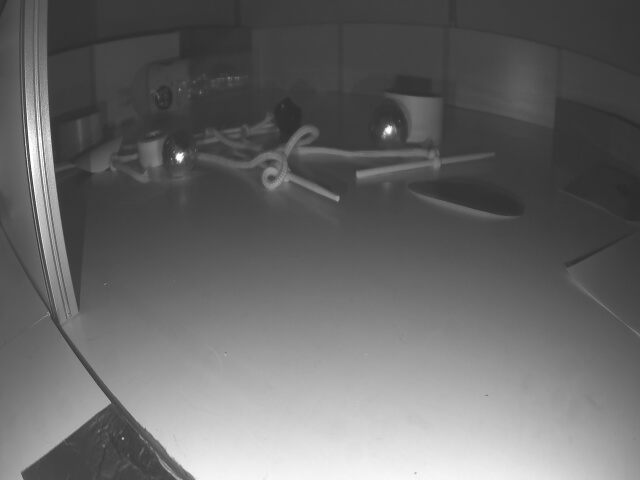Dead: (278, 93, 301, 133)
Live: (366, 102, 405, 143), (165, 134, 199, 177)
Point: (51, 110, 103, 162)
